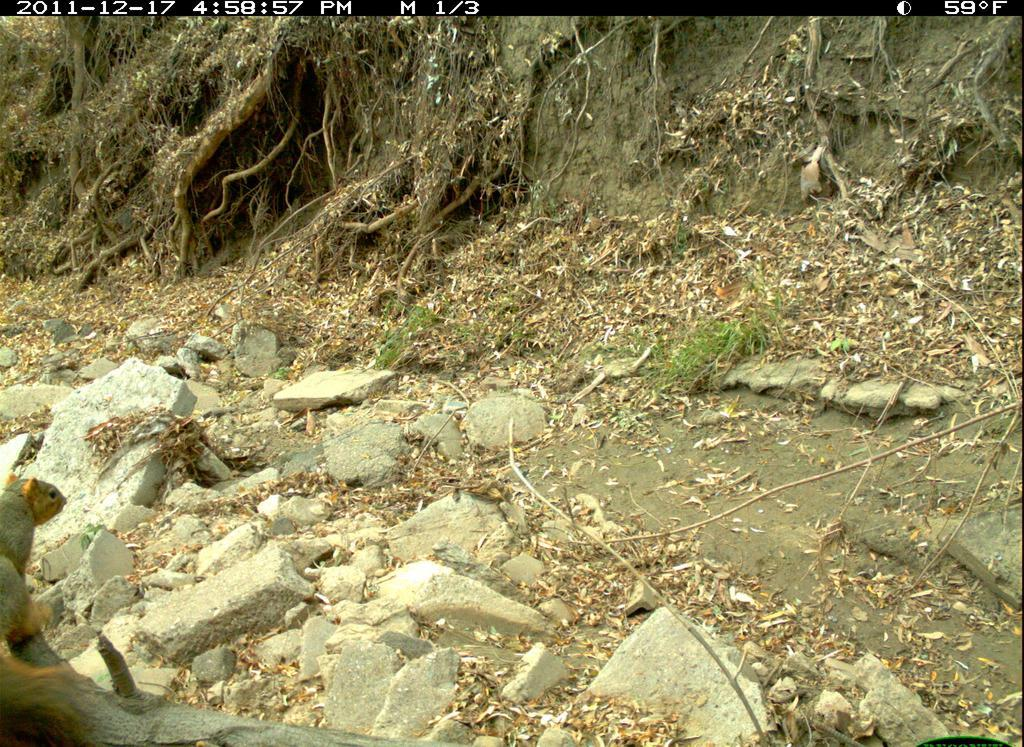squirrel: (4, 446, 130, 743)
